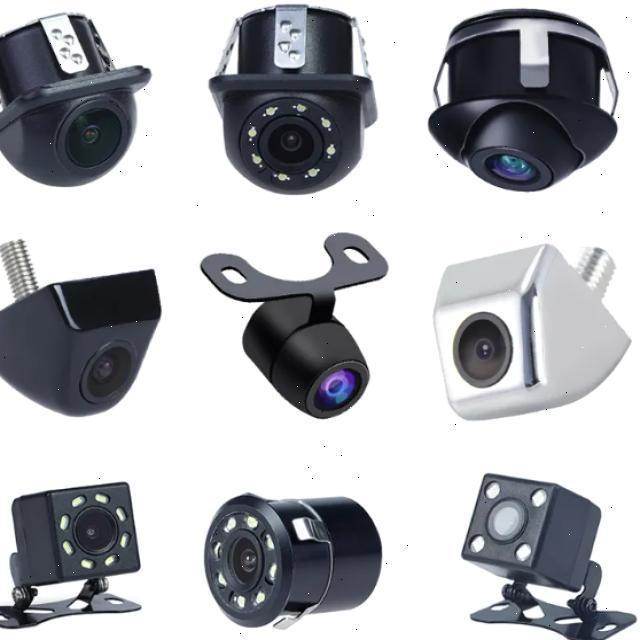camera: (185, 229, 398, 424), (425, 0, 630, 196), (437, 231, 624, 430), (209, 5, 392, 196), (201, 453, 395, 632), (449, 453, 622, 629), (5, 1, 156, 200), (13, 233, 147, 417), (5, 461, 147, 631)
